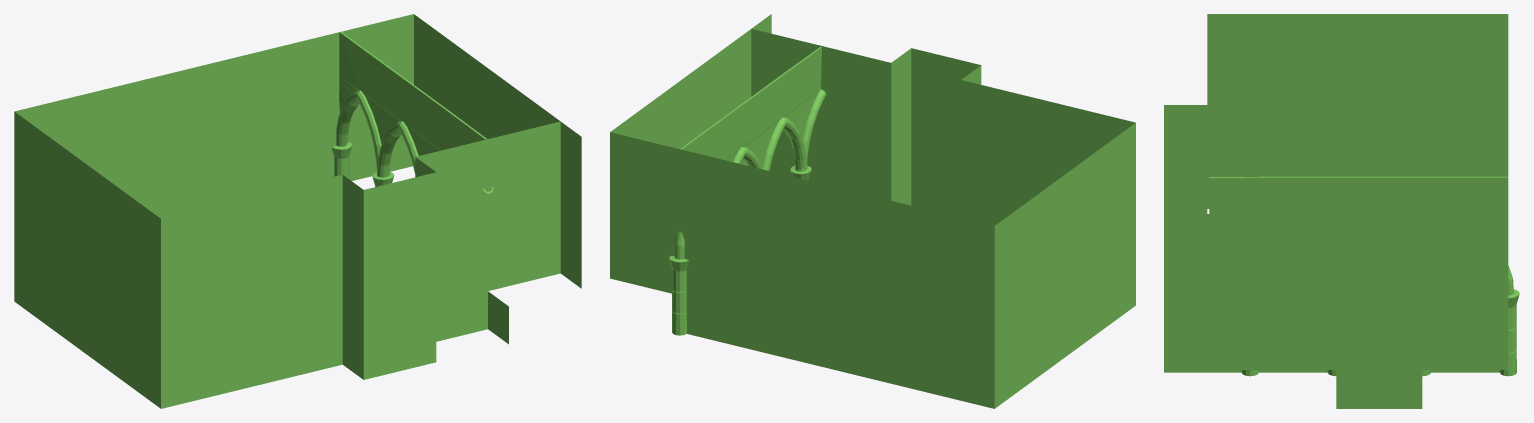
The model's file is NEON_TEST_COLLISION.fbx.
3 views of the same model, side by side, from view 1: azimuth 30°, elevation 25°; view 2: azimuth 150°, elevation 25°; view 3: azimuth 270°, elevation 25° (orthographic). The views are drawn at different scales.
Parts seen in each view (by area): view 1: Cube.013; view 2: Cube.013; view 3: Cube.013.
Boxes of the visible parts, x1,y1,x2,y2 form: Cube.013: (14,14,581,408); Cube.013: (610,14,1135,408); Cube.013: (1164,14,1519,408).
Bounding box in the file's own units: 11 × 5 × 8.27.
